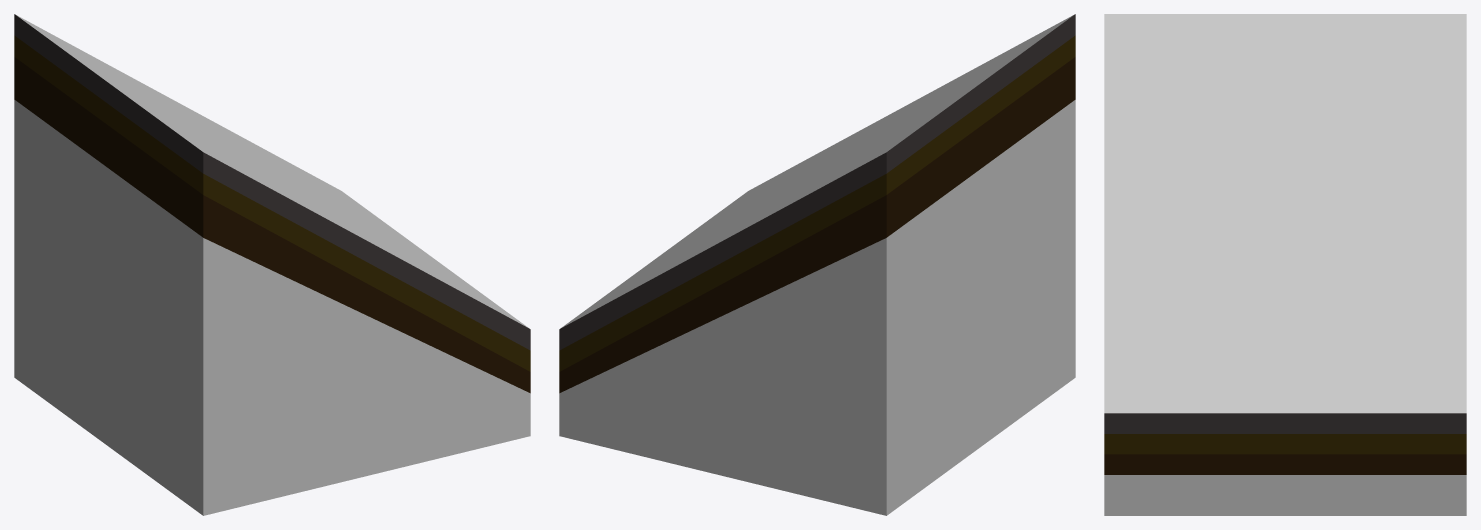
File: model_loc_1640_a.obj
The picture shows the model from 3 angles, left to right: view 1: azimuth 30°, elevation 25°; view 2: azimuth 150°, elevation 25°; view 3: azimuth 270°, elevation 25°; orthographic projection. The views are drawn at different scales.
Visible parts, largest first — view 1: 617; view 2: 617; view 3: 617.
Boxes of the visible parts, <box> form: 617: <box>14,14,530,515</box>; 617: <box>559,14,1075,515</box>; 617: <box>1104,14,1466,515</box>.
Size of the model in its own units: 128 by 136 by 128.
